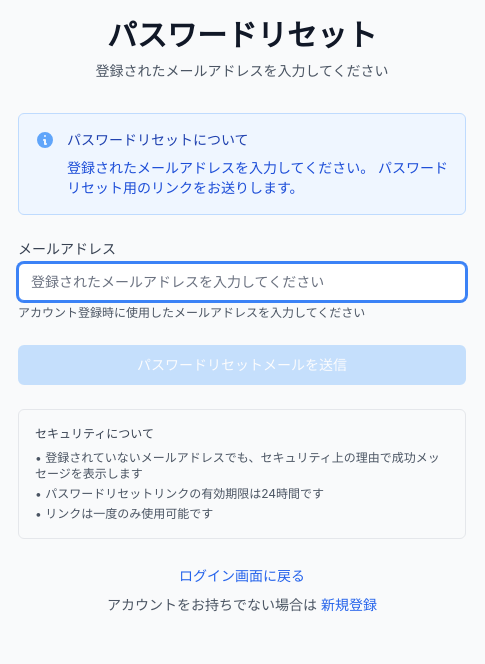
Scenario: PasswordResetPage › ナビゲーション › パスワードリセット成功後に成功画面が表示される
In the field labelled "メールアドレス": (242, 282) [18,263,466,301], type "test@example.com"
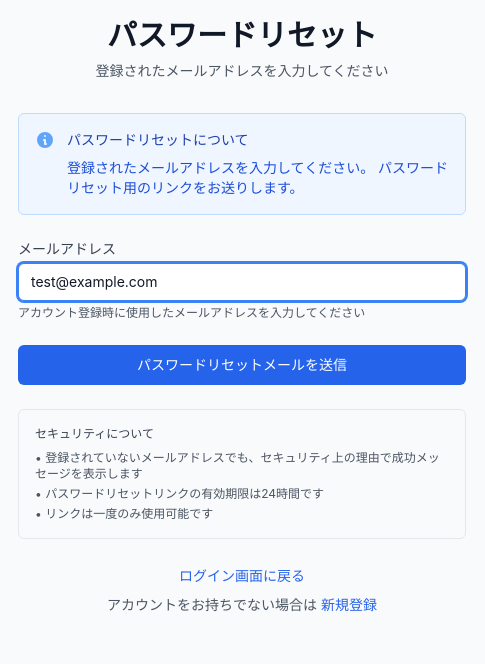
expect the button "パスワードリセットメールを送信" is enabled: met
Click the button "パスワードリセットメールを送信": (242, 365) [18,345,466,385]
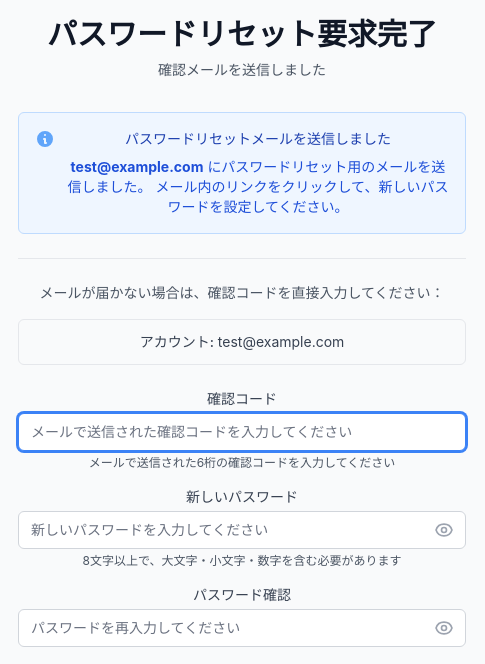
expect the heading "パスワードリセット要求完了" is shown: met, box [18,16,466,52]
expect the heading "パスワードリセットメールを送信しました" is shown: met, box [125,130,391,147]
